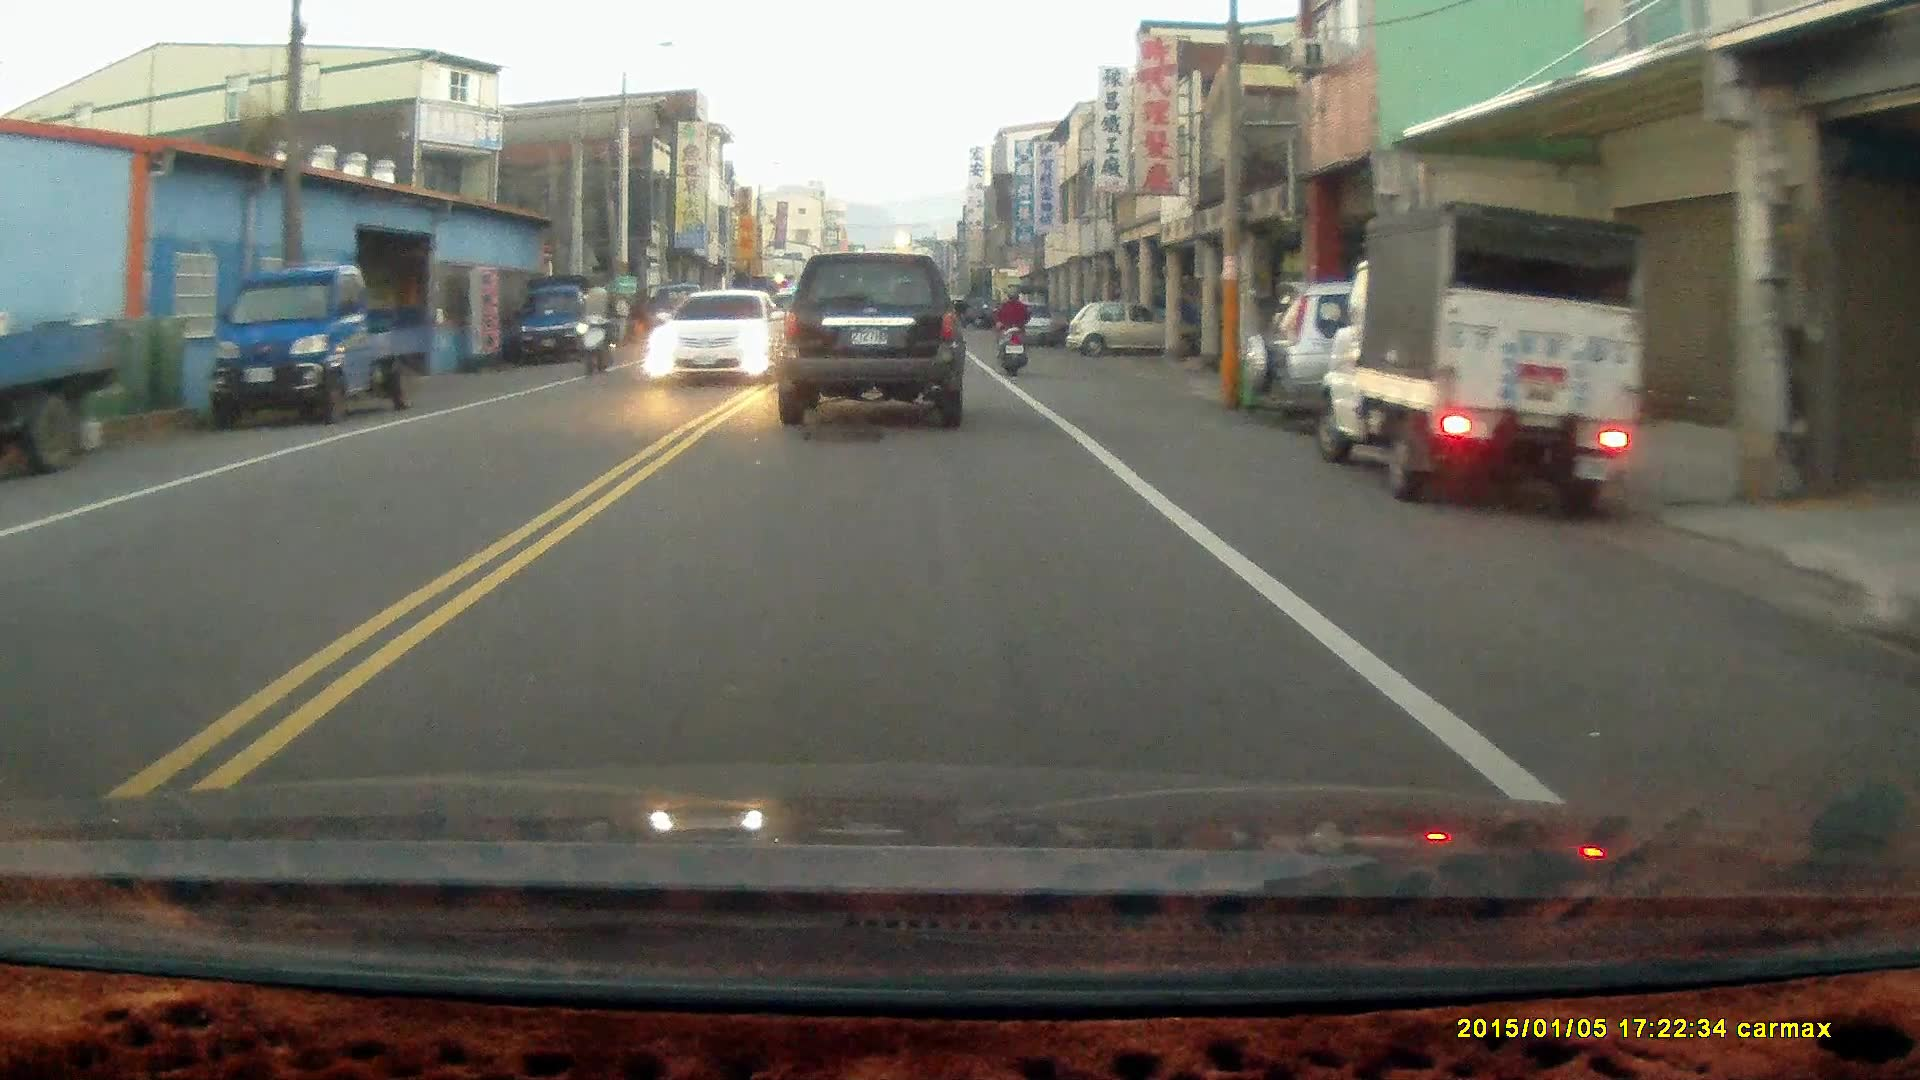rider: (572, 280, 615, 379), (993, 280, 1030, 376)
vehicle: (1322, 197, 1645, 533), (1240, 277, 1601, 432), (207, 270, 435, 427), (774, 254, 969, 430), (1, 265, 131, 484), (651, 290, 791, 387), (507, 275, 622, 366), (1069, 302, 1163, 358)
